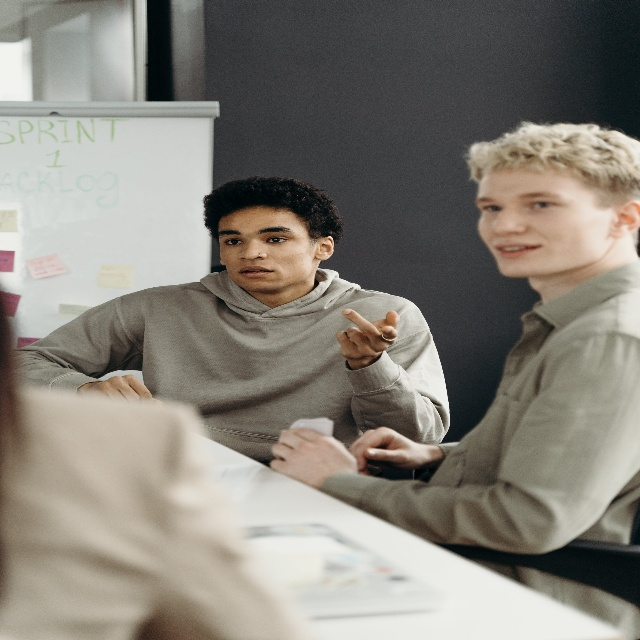Sin_guantes: (269, 425, 357, 482), (338, 301, 402, 367), (351, 423, 430, 467), (97, 376, 151, 398)
